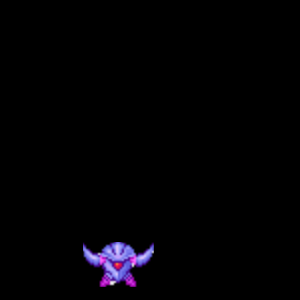Enemy: (83, 242, 154, 287)
